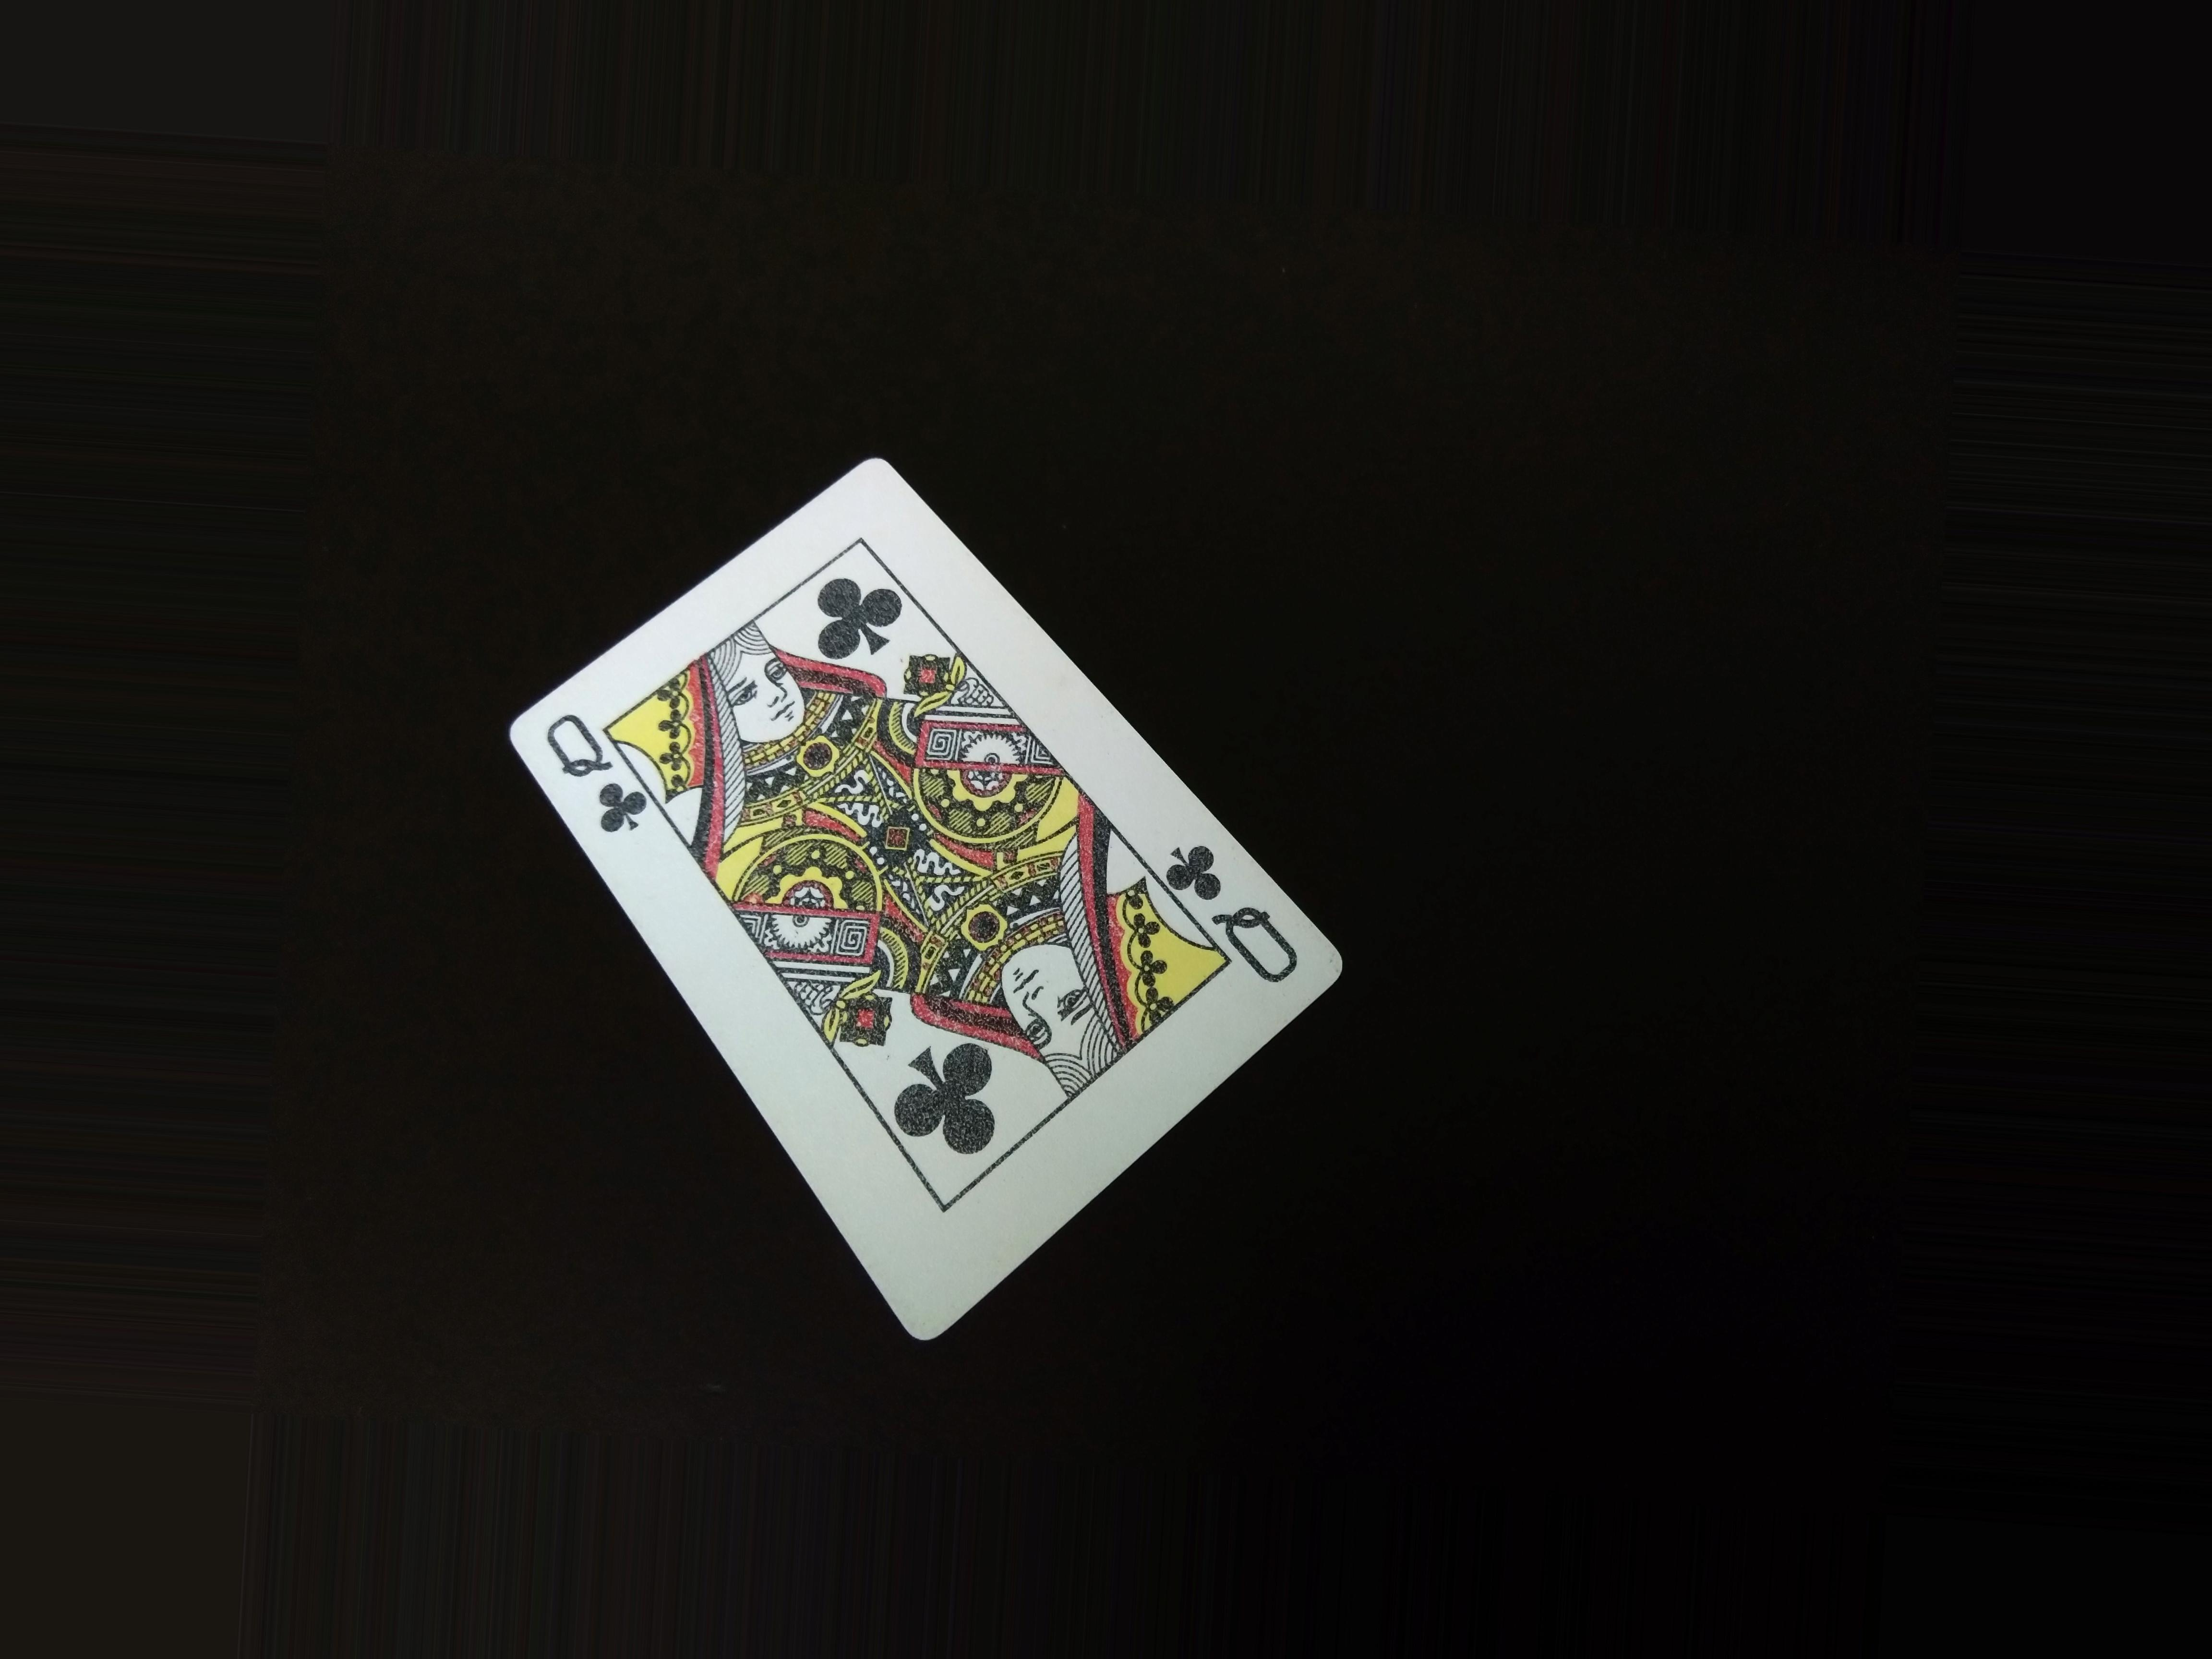QC: (502, 709, 655, 847)
